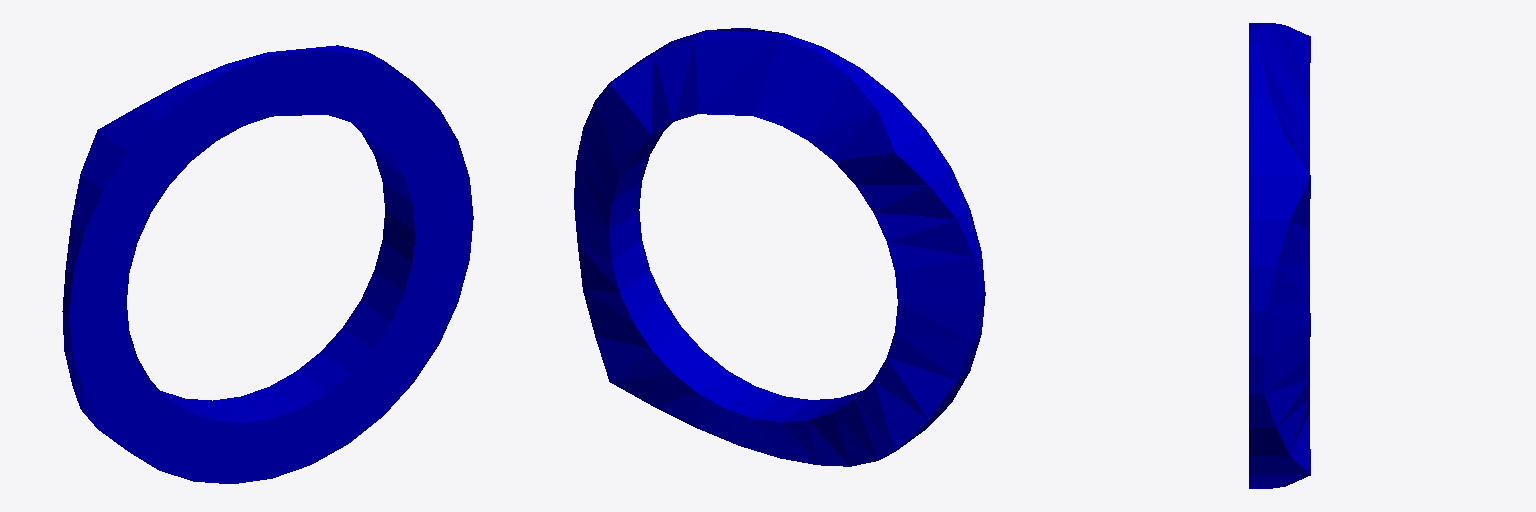
File: Nought.obj
3 renders of one model, left to right at view 1: azimuth 30°, elevation 25°; view 2: azimuth 150°, elevation 25°; view 3: azimuth 270°, elevation 25°, orthographic.
Parts seen in each view (by area): view 1: Mesh; view 2: Mesh; view 3: Mesh.
Boxes of the visible parts, <box> form: Mesh: <box>62,45,473,483</box>; Mesh: <box>574,28,985,466</box>; Mesh: <box>1249,23,1310,488</box>.
Bounding box in the file's own units: 0.2833 × 0.2833 × 0.0376.